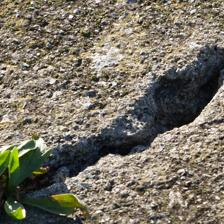Crack: (17, 24, 207, 171)
